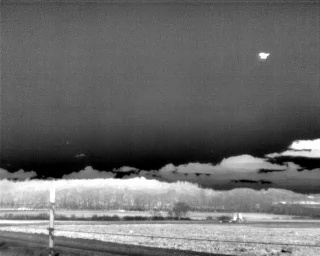DRONE: (255, 49, 273, 64)
